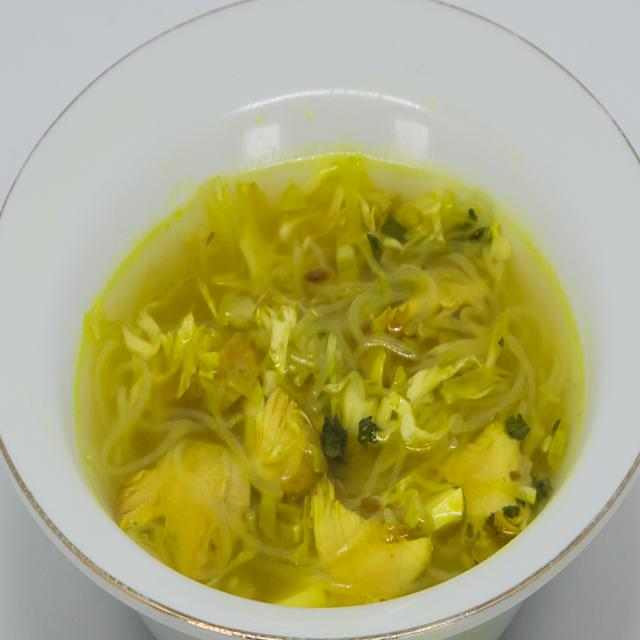Soto-Lamongan: (64, 144, 578, 608)
